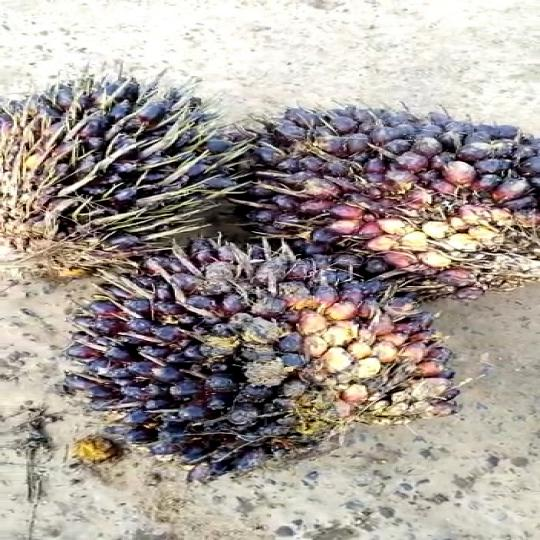mentah: (75, 243, 453, 480), (219, 98, 529, 329), (0, 58, 242, 294)
